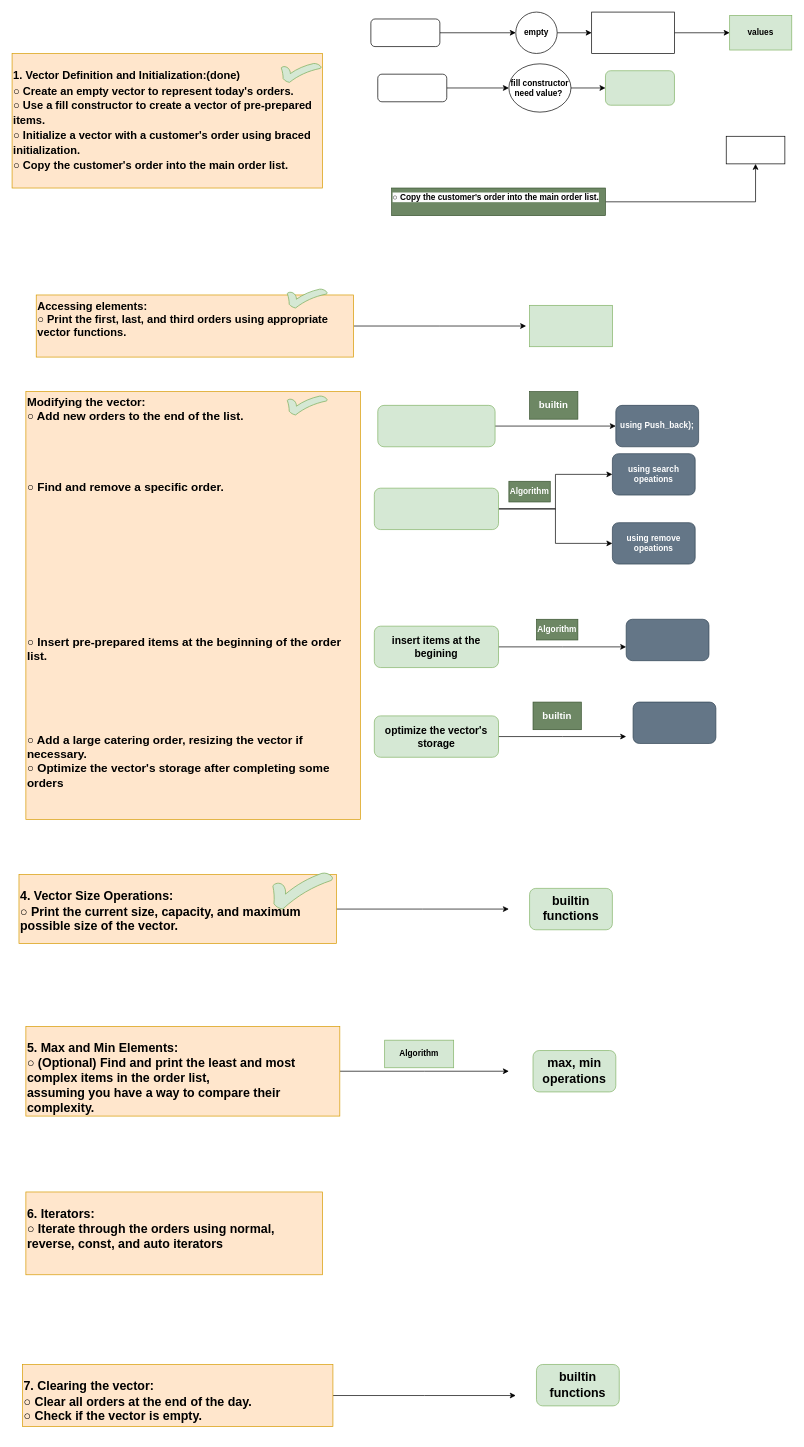
Some shapes in this 804 by 1447 pixel diagram are drawn without their labels. The centre of each missing label's shape, as x and y in pixels:
add element to the end of the list: [436,426]
Find and remove element: [436,508]
not understanding: [755,150]
prepared_items: [412,87]
print elements: [570,326]
then use barced initializaiton: [632,32]
today's_orders: [405,32]
using insert opeations: [667,640]
using resize();: [674,722]
value: [639,87]
